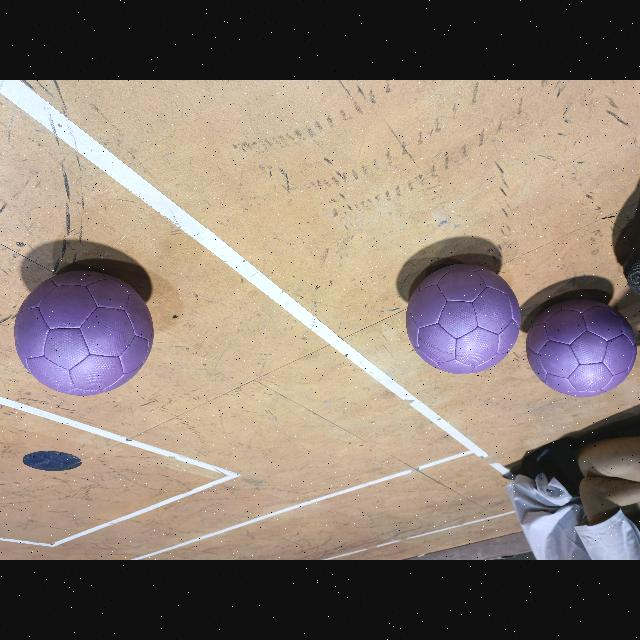P: (15, 270, 154, 396), (406, 264, 520, 374), (526, 299, 636, 397)
